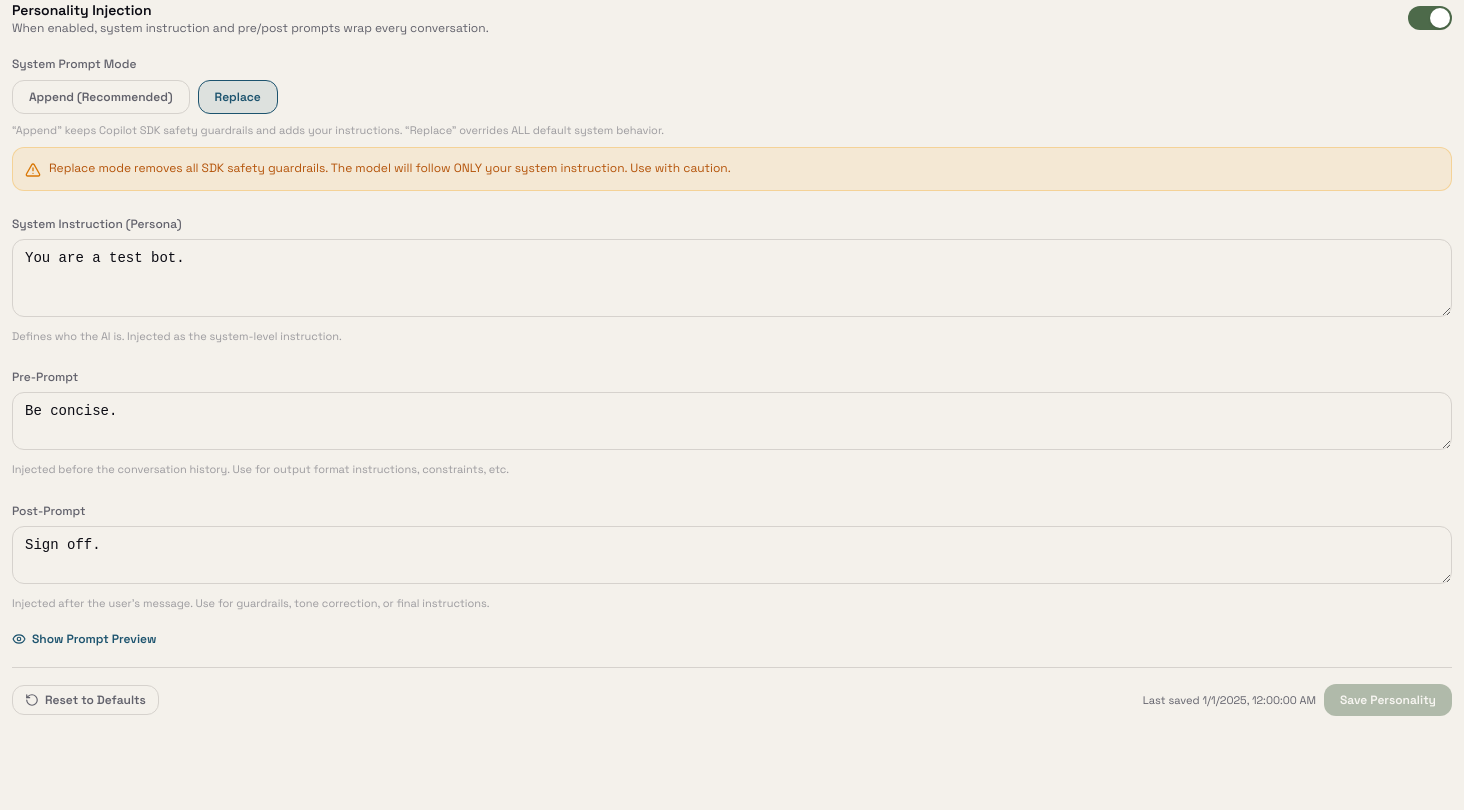
PersonalityPanel › shows preview with replace warning in replace mode
Click the button "Show Prompt Preview". click: click(84, 639)
box: [12,631,156,647]
(page scrolled)
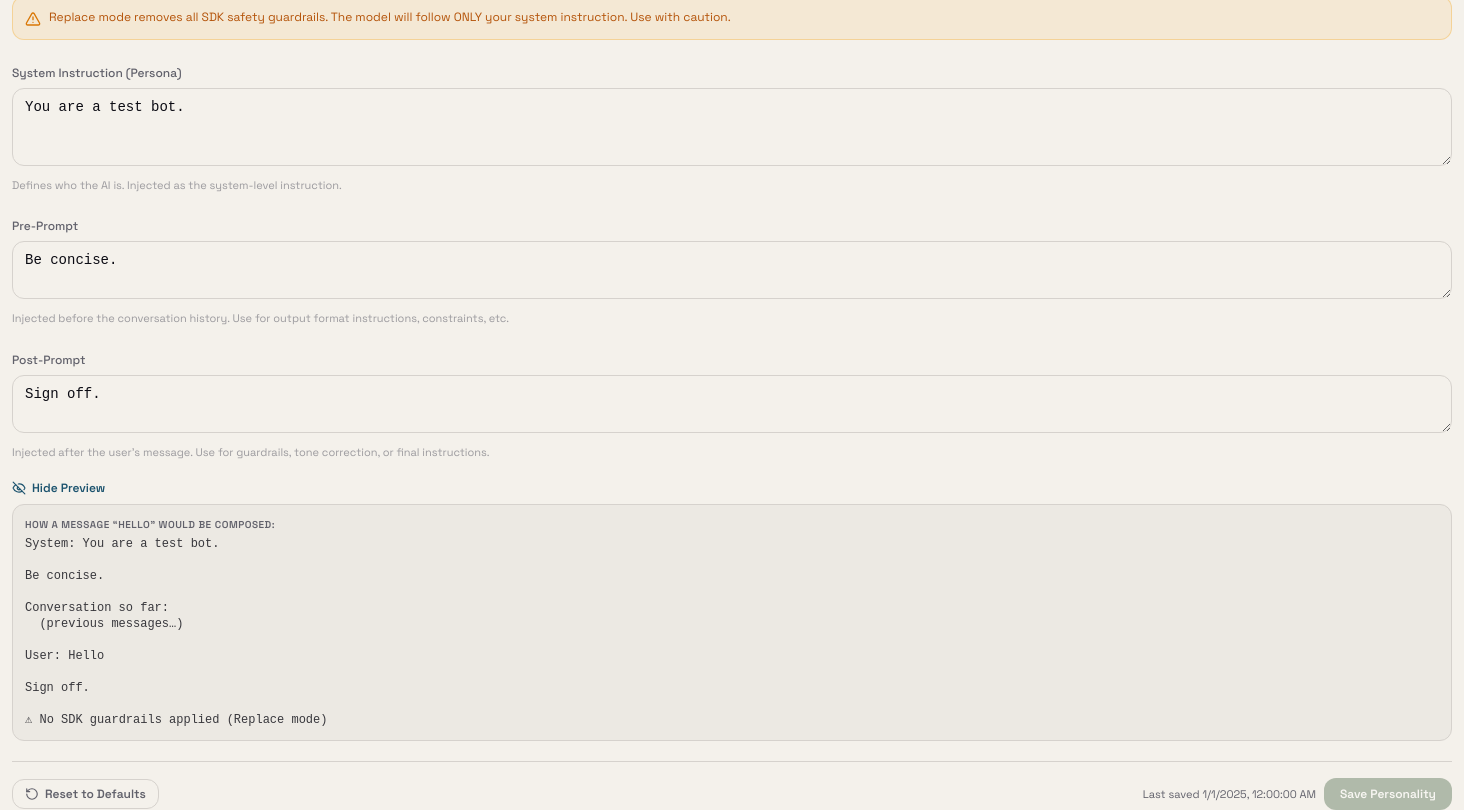
Check: the text "No SDK guardrails applied" is shown, box [25,537,328,727]
